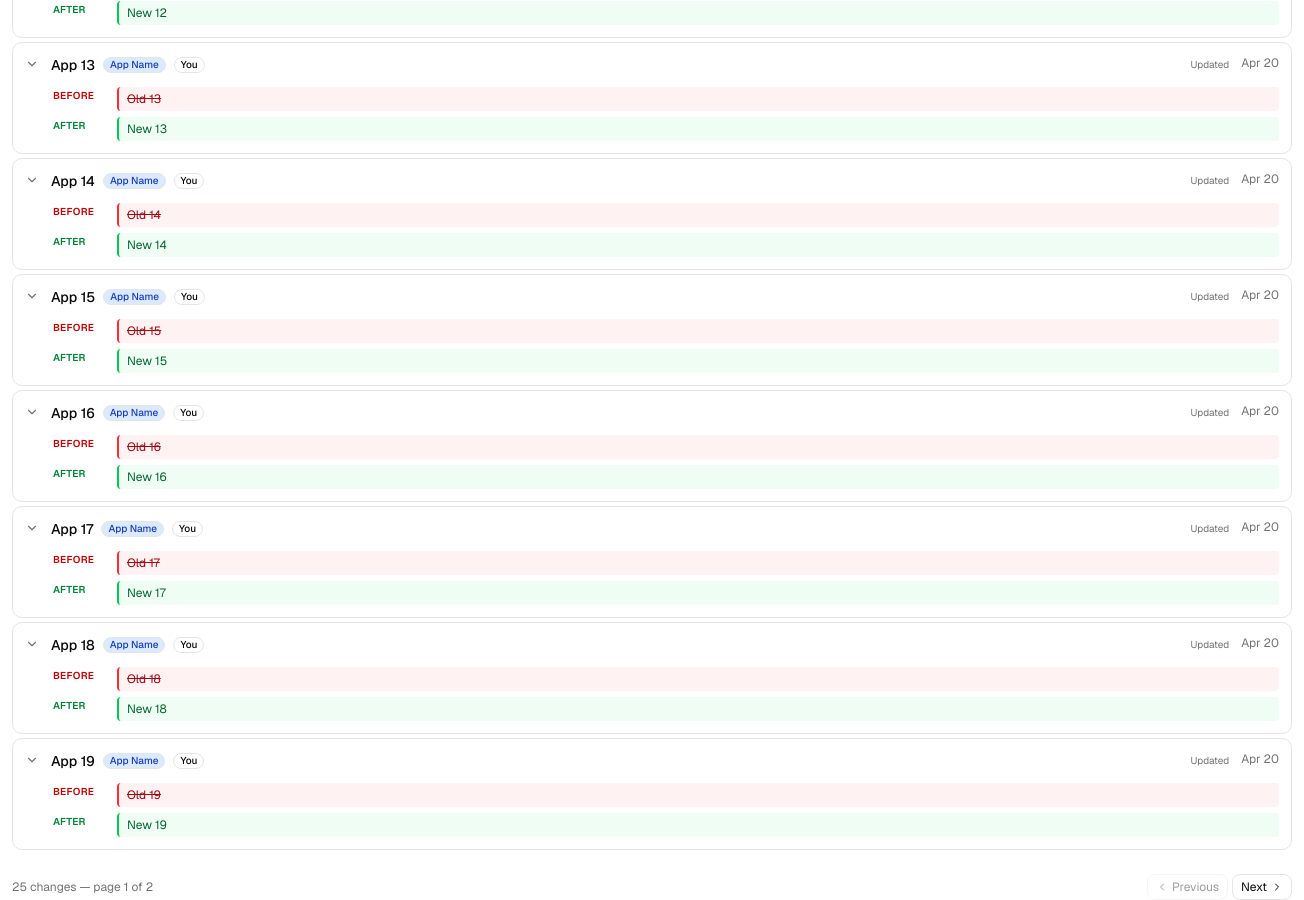
Test: UnifiedChangeLog › shows pagination when entries exceed page size
(page scrolled)
Expected: the text "25 changes — page 1 of 2" is shown, top-left (12, 879), bottom-right (153, 895)
Expected: the button "Previous" is shown, top-left (1147, 874), bottom-right (1228, 899)
Note: Navigate to page 2
Click the button "Next" at [1262, 887], box top-left (1232, 874), bottom-right (1292, 899)
(page scrolled)
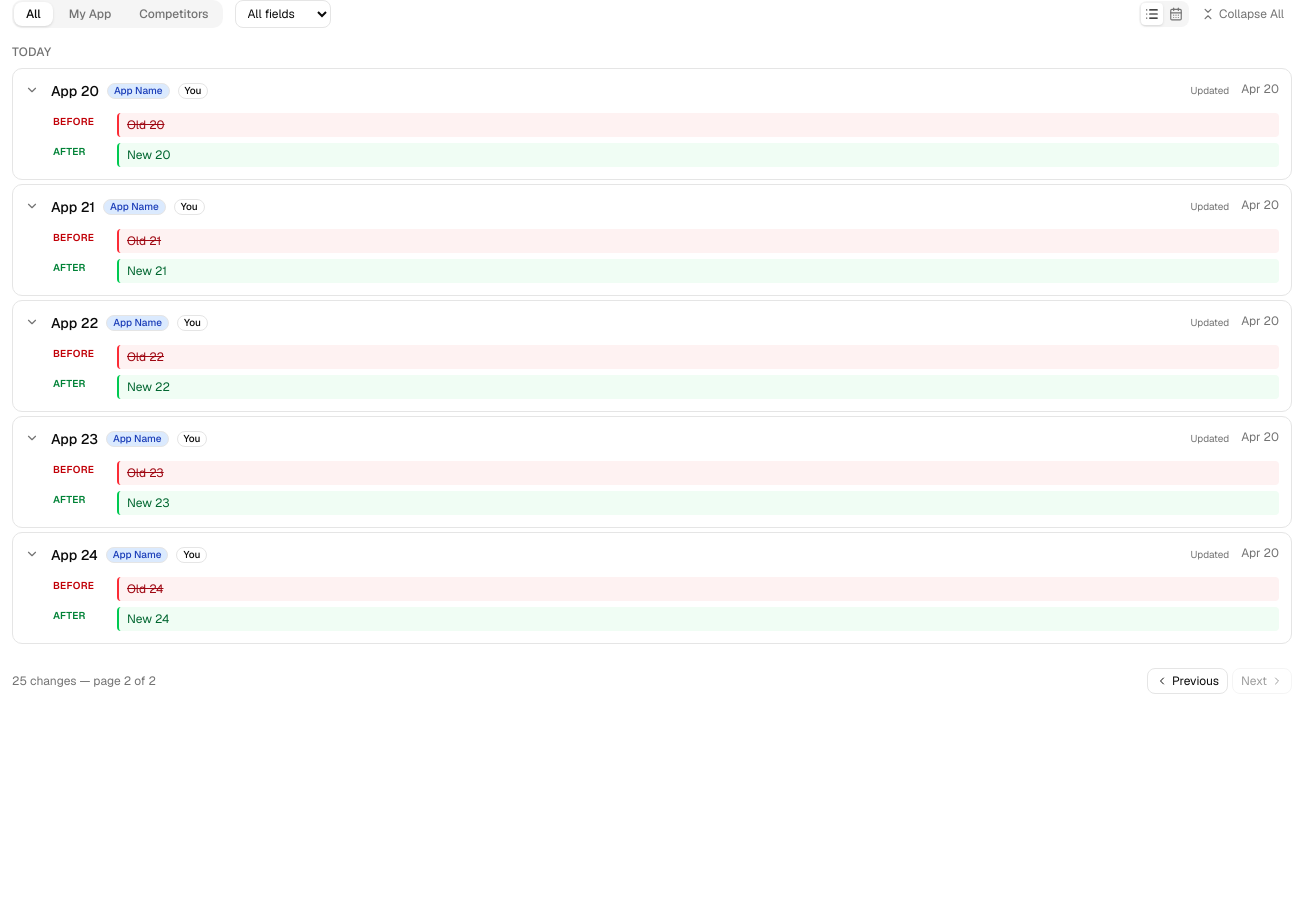
Expected: the text "25 changes — page 2 of 2" is shown, top-left (12, 673), bottom-right (156, 689)
Expected: the link "App 20" is shown, top-left (51, 81), bottom-right (99, 101)
